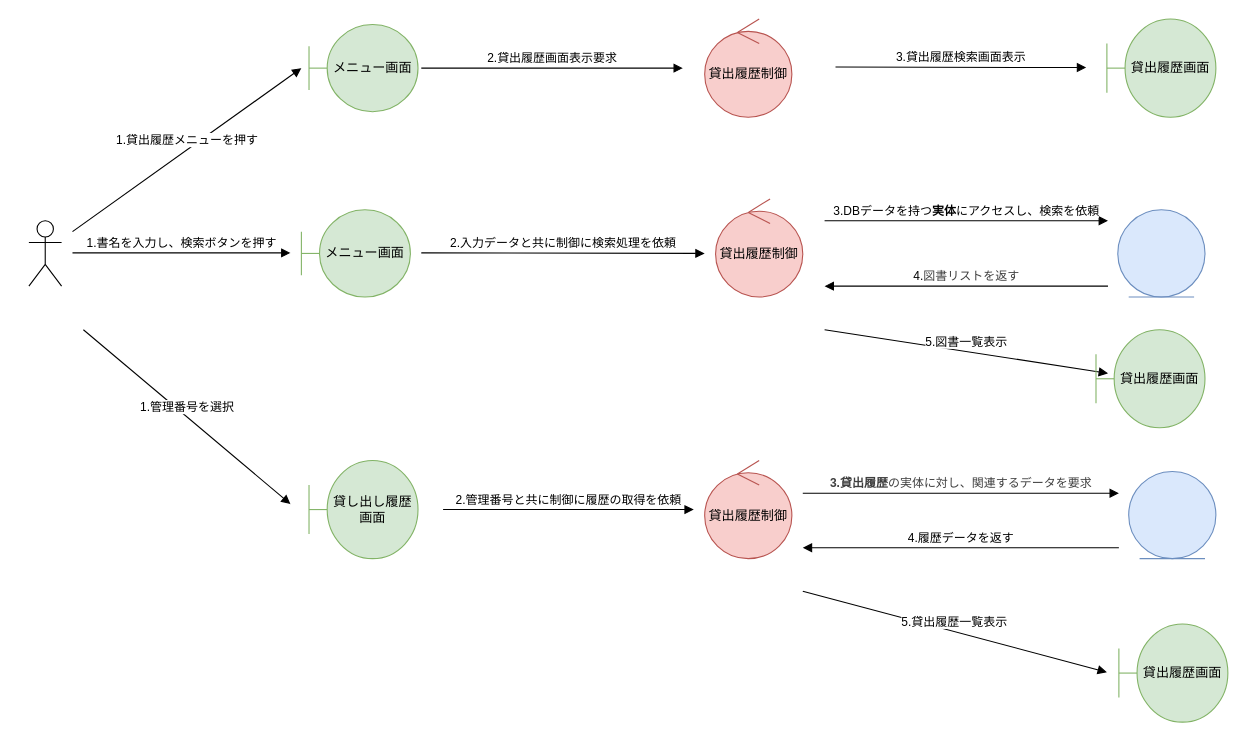
This 1247x741 diagram has some shape labels left out. The centre of each missing label's shape, as x and y in pixels:
事務職員: the point at 45,253
図書: the point at 1161,253
貸出履歴: the point at 1172,514
